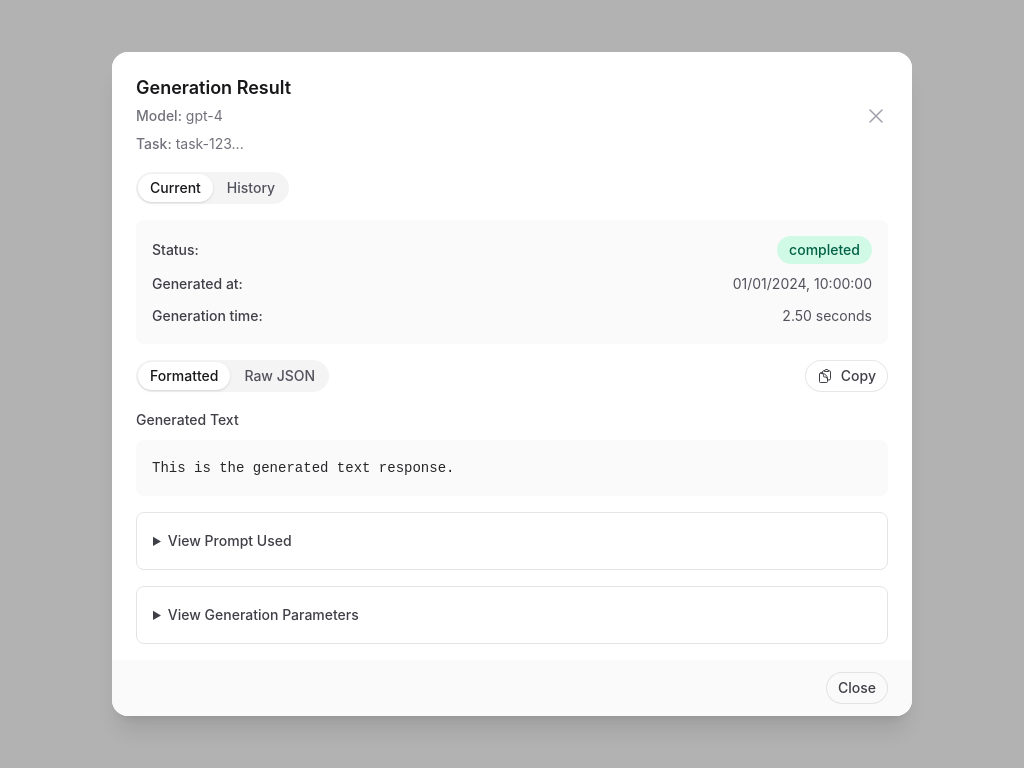
Test case: GenerationResultModal Component › history tab › expands history entry on click to show content
Step 1. Click the button "History" → (251, 188), box [215,174,287,202]
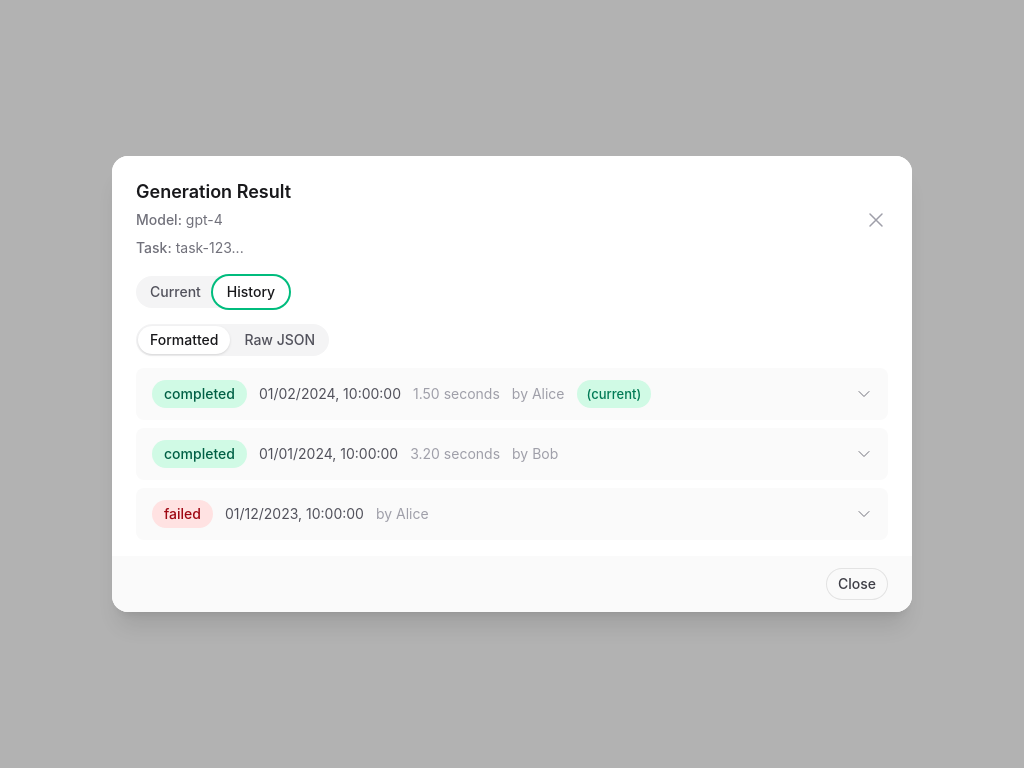
Expected: the text "(current)" is shown, [576,380,651,408]
Step 2. Click the 6th button → (512, 394), box [136,368,888,420]
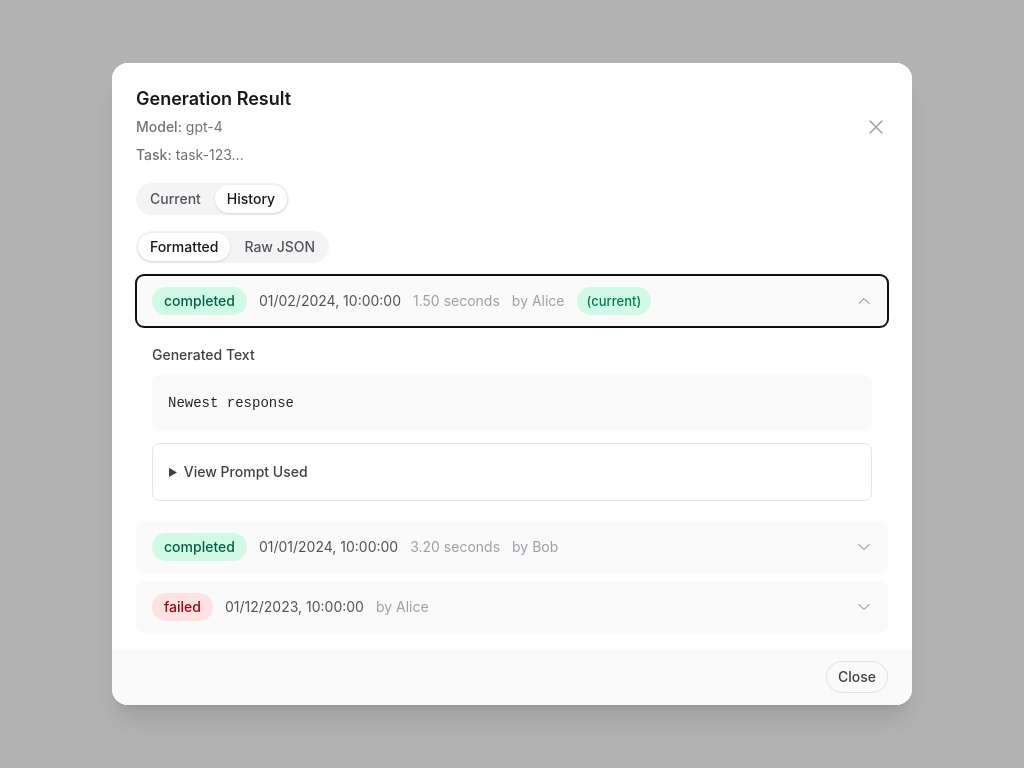
Expected: the text "Newest response" is shown, [168,395,294,411]
